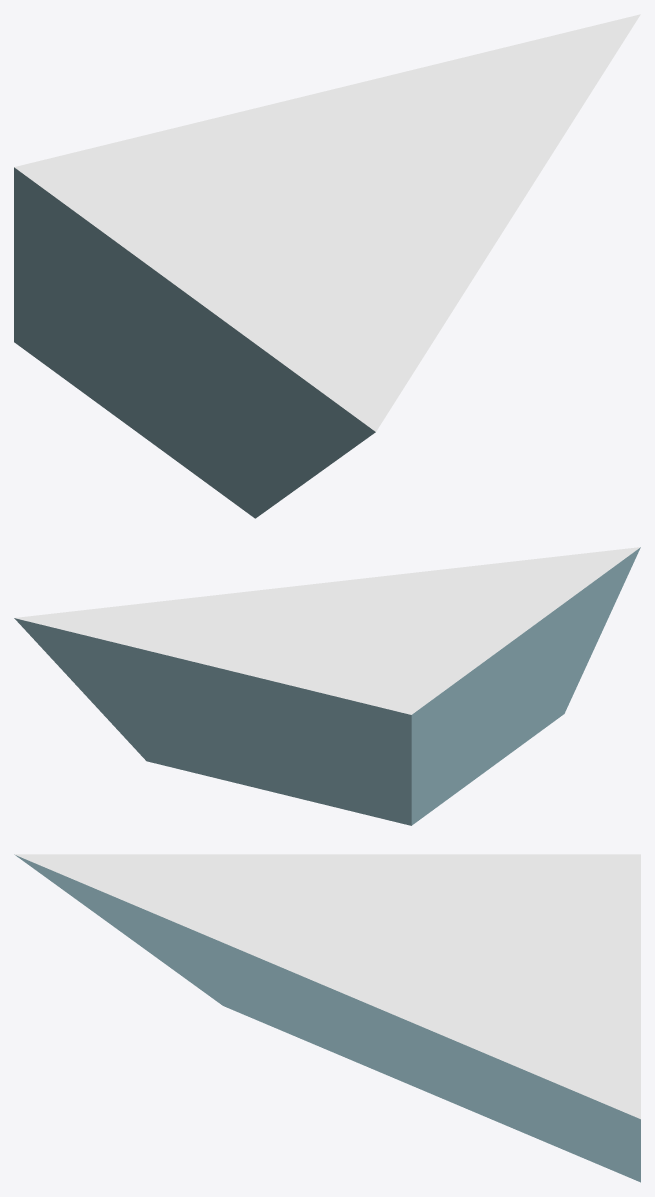
File: Terrain_Modular_Tiles_Snow_Ice_Cliff_Edge_Corner_Outer_01.fbx
The picture shows the model from 3 angles, top to bottom: view 1: azimuth 30°, elevation 25°; view 2: azimuth 150°, elevation 25°; view 3: azimuth 270°, elevation 25°; orthographic projection. The views are drawn at different scales.
Visible parts, largest first — view 1: Terrain_Modular_Tiles_Snow_Ice_Cliff_Edge_Corner_Outer_01; view 2: Terrain_Modular_Tiles_Snow_Ice_Cliff_Edge_Corner_Outer_01; view 3: Terrain_Modular_Tiles_Snow_Ice_Cliff_Edge_Corner_Outer_01.
Part boxes in pixels (<box>): Terrain_Modular_Tiles_Snow_Ice_Cliff_Edge_Corner_Outer_01: <box>14,14,640,518</box>; Terrain_Modular_Tiles_Snow_Ice_Cliff_Edge_Corner_Outer_01: <box>14,547,640,825</box>; Terrain_Modular_Tiles_Snow_Ice_Cliff_Edge_Corner_Outer_01: <box>14,854,640,1182</box>.
Bounding box in the file's own units: 44.29 × 11.81 × 44.29.
